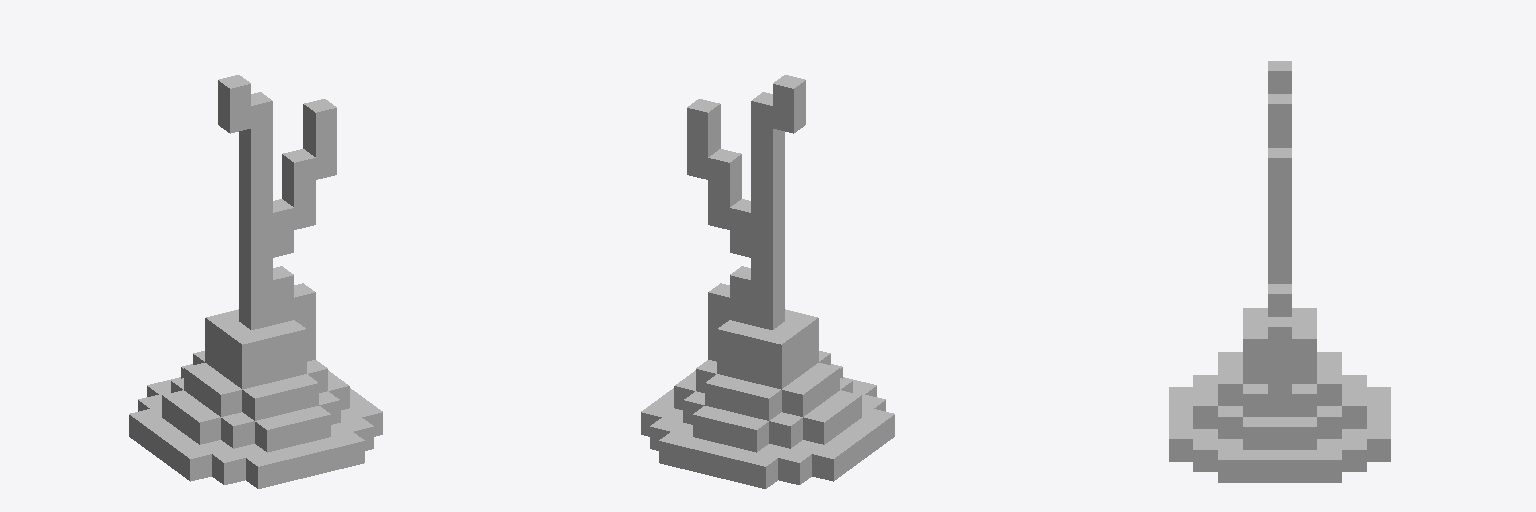
Rendered from Plantas jovens milho.obj.
3 renders of one model, left to right at view 1: azimuth 30°, elevation 25°; view 2: azimuth 150°, elevation 25°; view 3: azimuth 270°, elevation 25°, orthographic.
Parts seen in each view (by area): view 1: object 1; view 2: object 1; view 3: object 1.
Part boxes in pixels (x1,y1,x2,y2): object 1: (129,75,382,488); object 1: (641,75,894,488); object 1: (1169,61,1390,482).
Size of the model in its own units: 0.9 by 1.6 by 0.9.